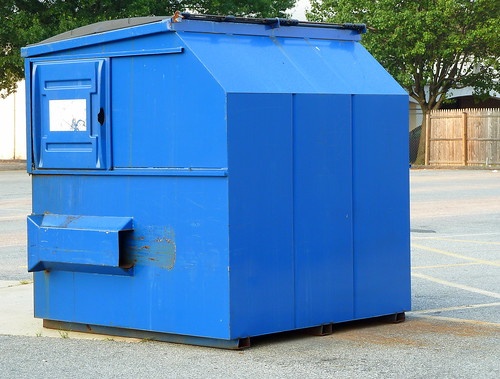dumpster: (25, 13, 419, 349)
tree: (325, 1, 500, 170)
